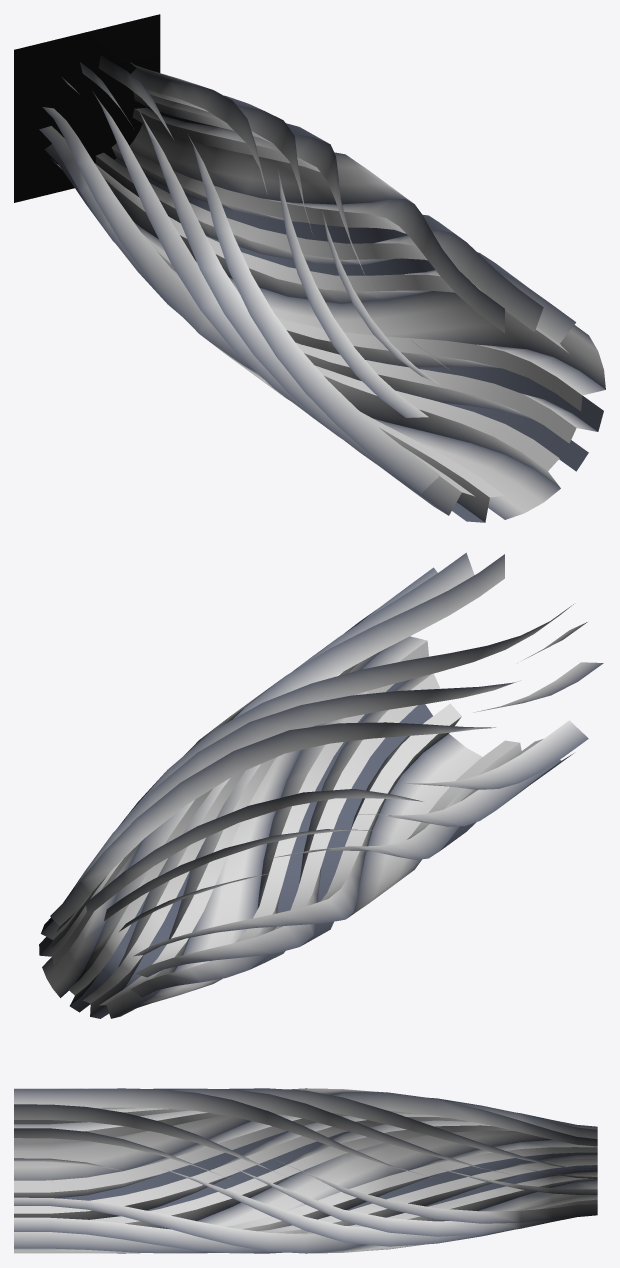
The model's file is rainbow.glb.
The picture shows the model from 3 angles, top to bottom: view 1: azimuth 30°, elevation 25°; view 2: azimuth 150°, elevation 25°; view 3: azimuth 270°, elevation 25°; orthographic projection. The views are drawn at different scales.
Visible parts, largest first — view 1: Cylinder.001; view 2: Cylinder.001; view 3: Cylinder.001.
Boxes of the visible parts, x1,y1,x2,y2 form: Cylinder.001: (14,14,605,522); Cylinder.001: (39,552,603,1018); Cylinder.001: (14,1088,597,1253).
Bounding box in the file's own units: 4.48 × 4.48 × 16.08.
